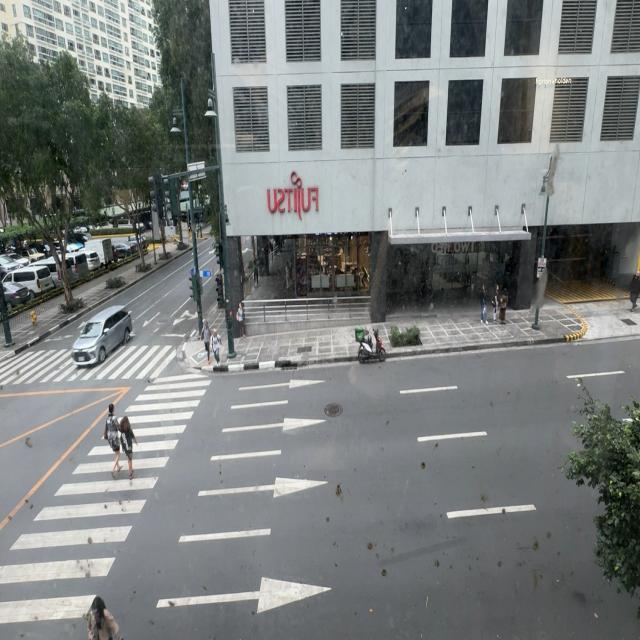jaywalking: (78, 592, 120, 640)
